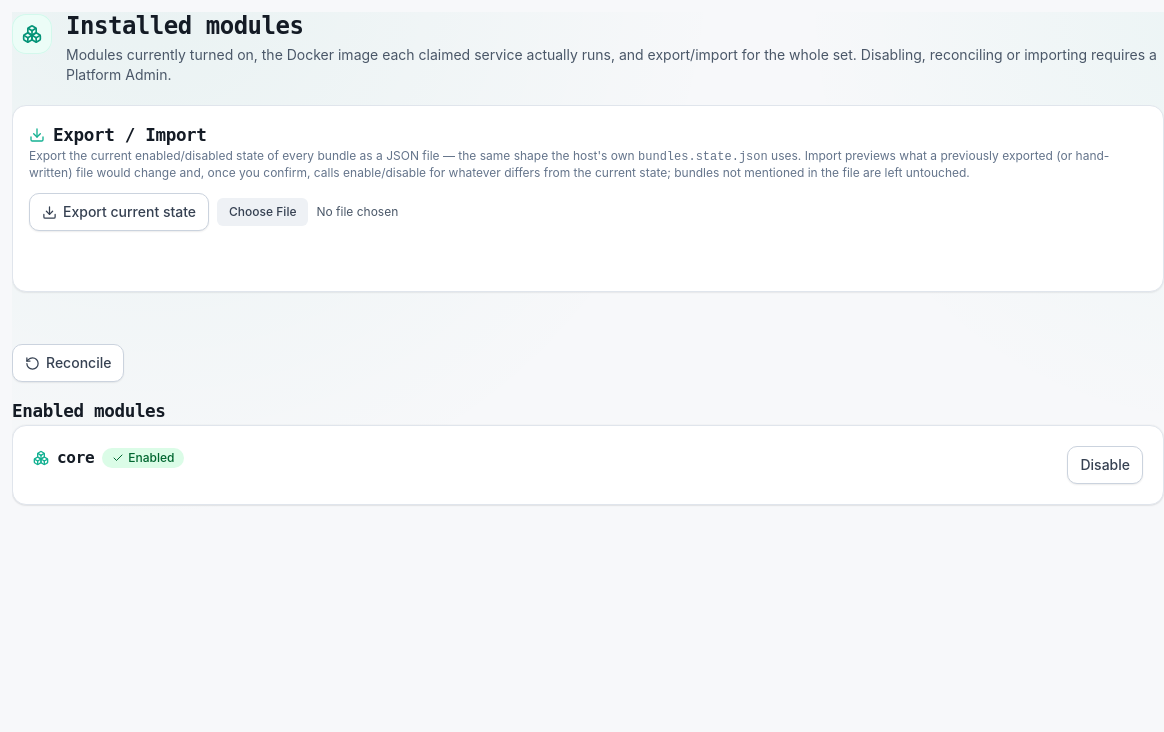
Test: InstalledBundlesPage › reconciles successfully and reports the outcome, then reloads
This screenshot has width=1164, height=732.
Click the button "Reconcile": click(68, 363) 12,344 -> 124,382
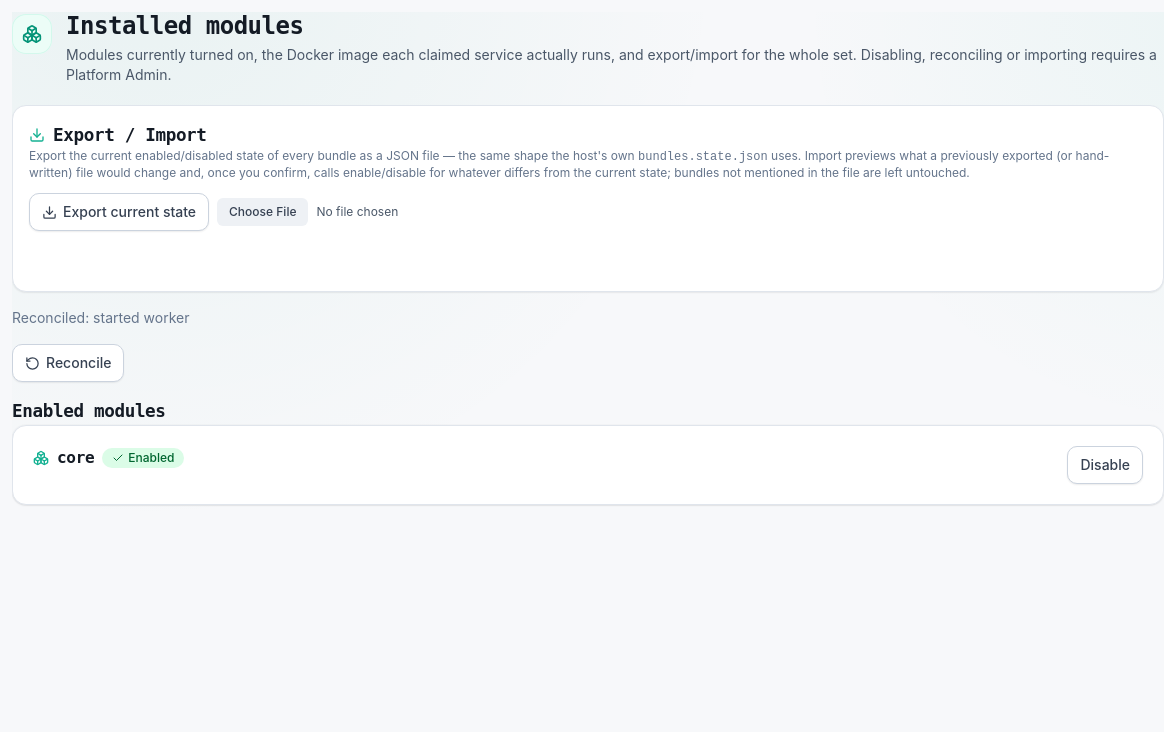
Result: the text "Reconciled: started worker" is shown at 12,309 -> 190,326
